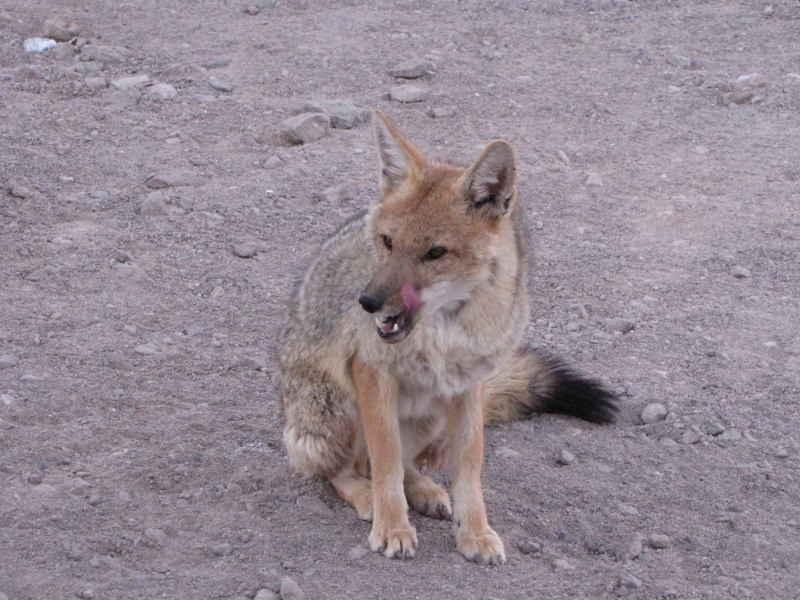fox: (273, 108, 621, 579)
